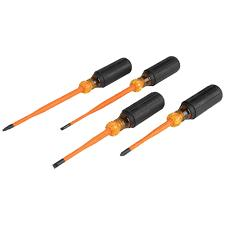screwdriver: (1, 56, 132, 131), (59, 54, 179, 130), (50, 91, 165, 168), (121, 83, 224, 154)
